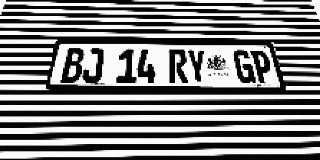1: (116, 49, 137, 83)
4: (137, 49, 156, 83)
B: (60, 48, 85, 83)
G: (232, 50, 256, 83)
J: (81, 48, 104, 83)
P: (250, 50, 275, 84)
R: (168, 49, 188, 83)
Y: (187, 50, 208, 83)
